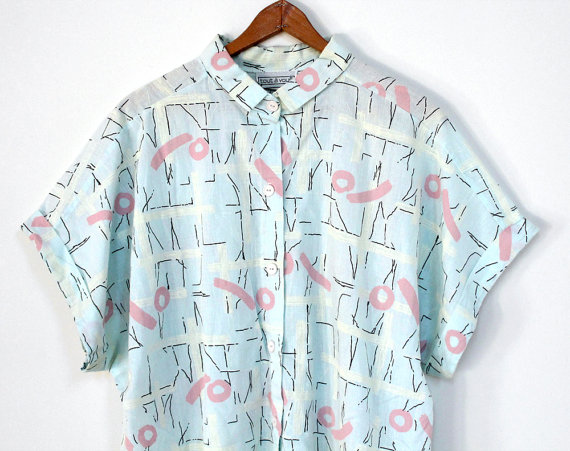C_short blouse: (9, 36, 559, 451)
